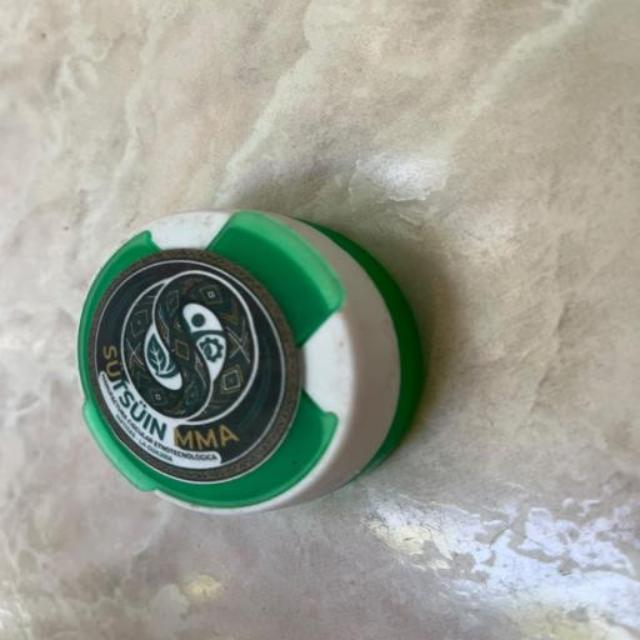HDPE: (27, 219, 502, 520)
